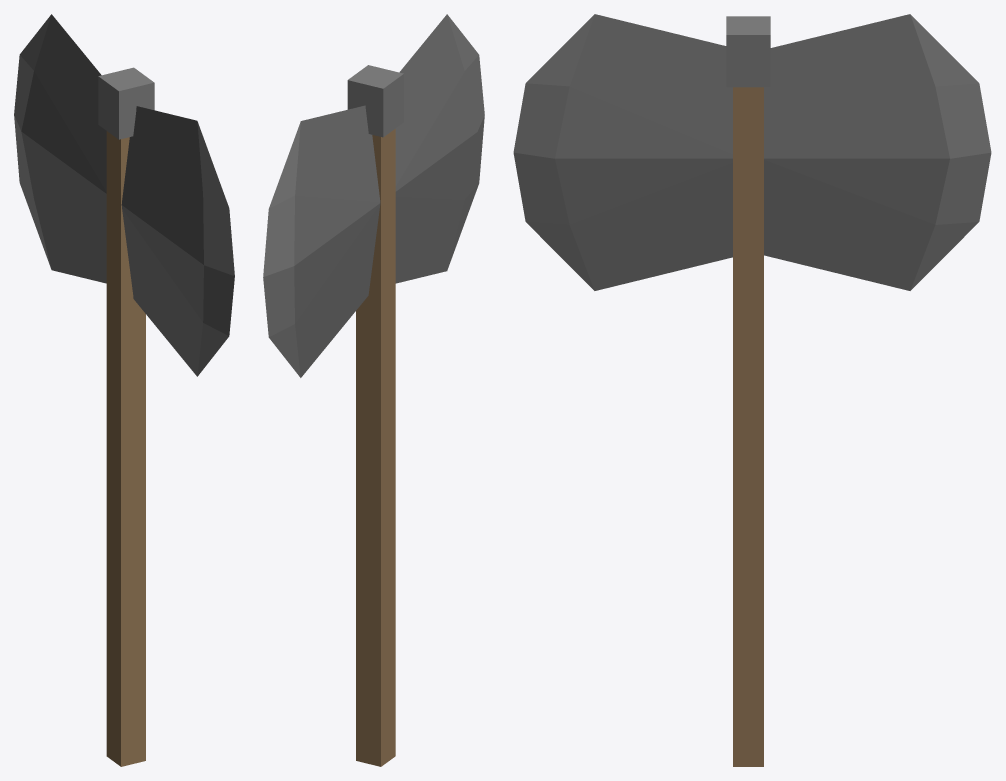
File: Axe_03.fbx
3 renders of one model, left to right at view 1: azimuth 30°, elevation 25°; view 2: azimuth 150°, elevation 25°; view 3: azimuth 270°, elevation 25°, orthographic. The views are drawn at different scales.
Visible parts, largest first — view 1: Axe_03; view 2: Axe_03; view 3: Axe_03.
Boxes of the visible parts, x1=… form: Axe_03: x1=14, y1=14, x2=234, y2=766; Axe_03: x1=263, y1=14, x2=484, y2=766; Axe_03: x1=513, y1=14, x2=991, y2=766.
Size of the model in its own units: 1.02 by 18.88 by 10.96.
